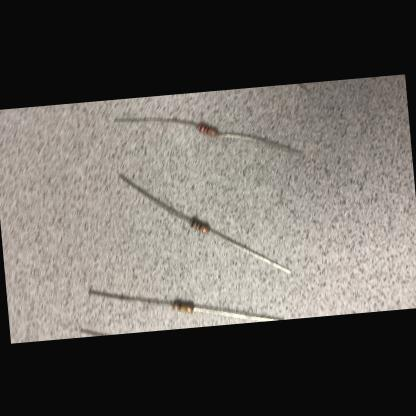resistor: (189, 216, 210, 233), (198, 122, 218, 138), (172, 300, 194, 314)
wire: (209, 222, 290, 279), (120, 167, 188, 228), (218, 124, 301, 160), (89, 284, 172, 314), (193, 298, 280, 326), (114, 112, 197, 136)
